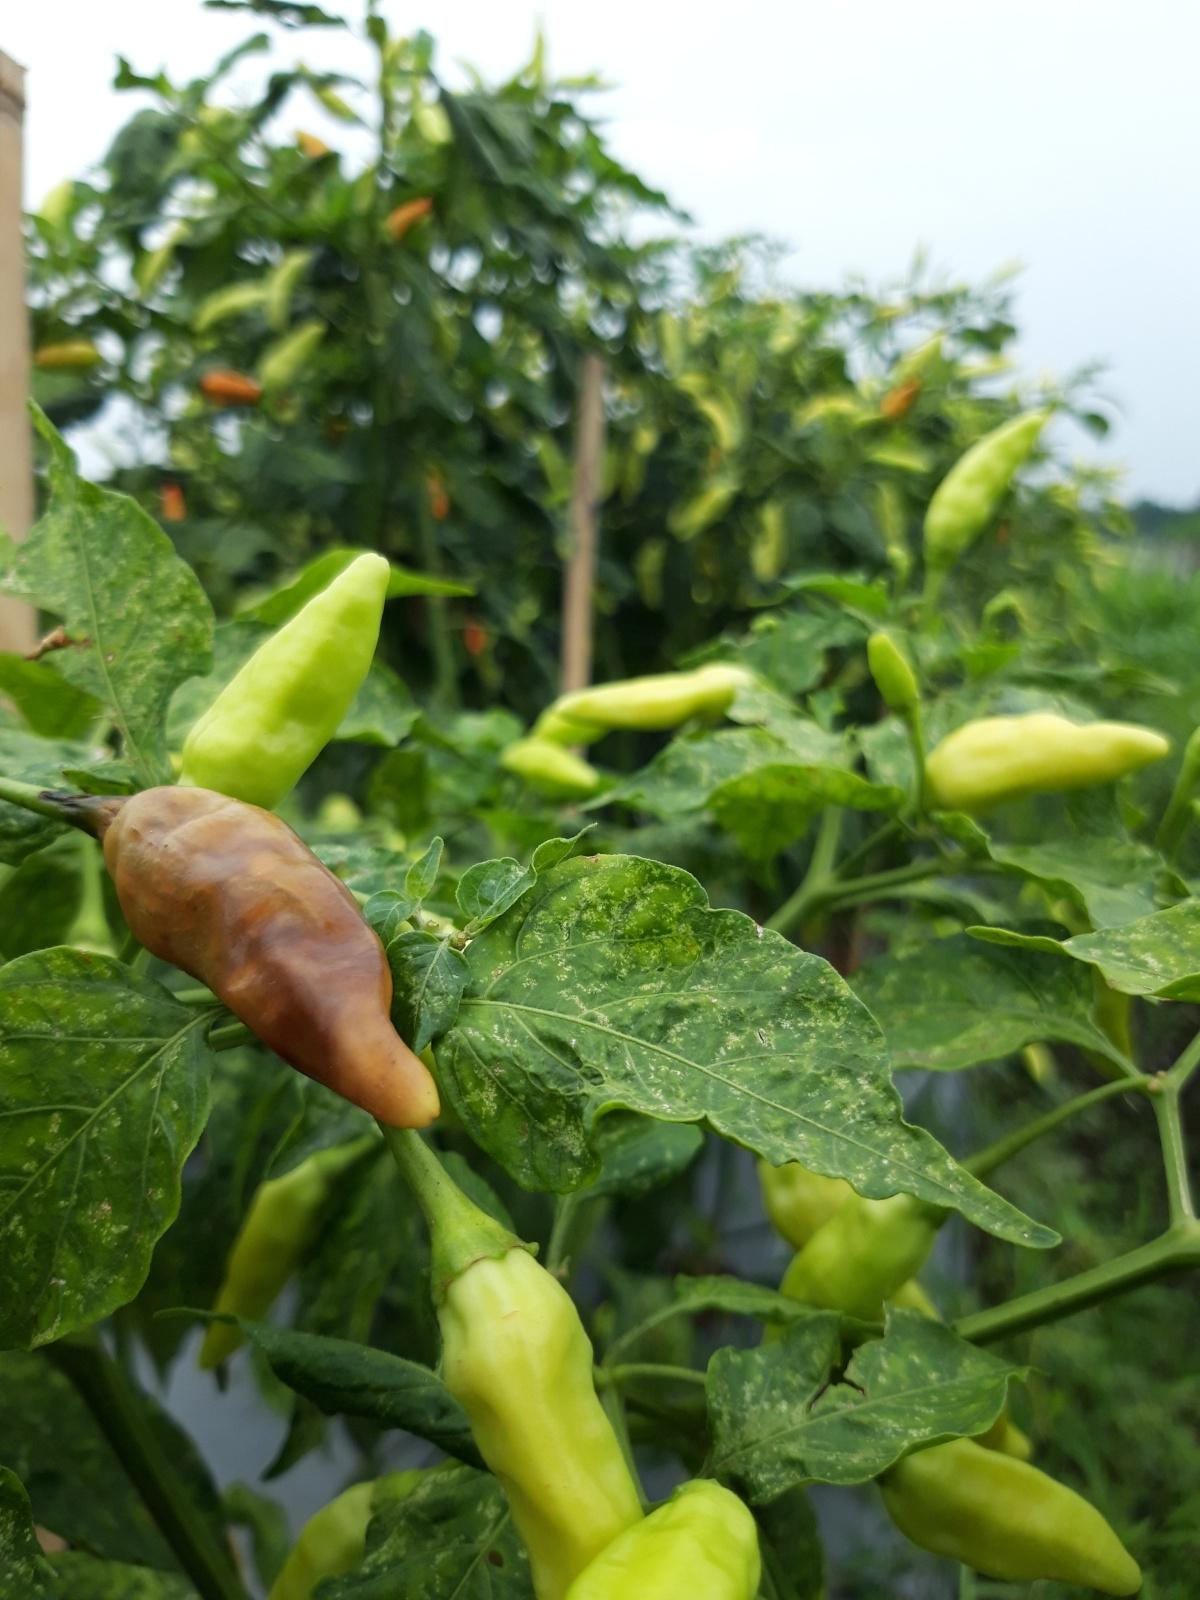cabai_normal: (424, 1236, 648, 1600), (176, 548, 391, 810), (885, 1430, 1148, 1600), (925, 711, 1170, 809), (921, 409, 1049, 569), (552, 665, 735, 732), (867, 632, 921, 716)
lalat_buah: (101, 787, 440, 1128)
